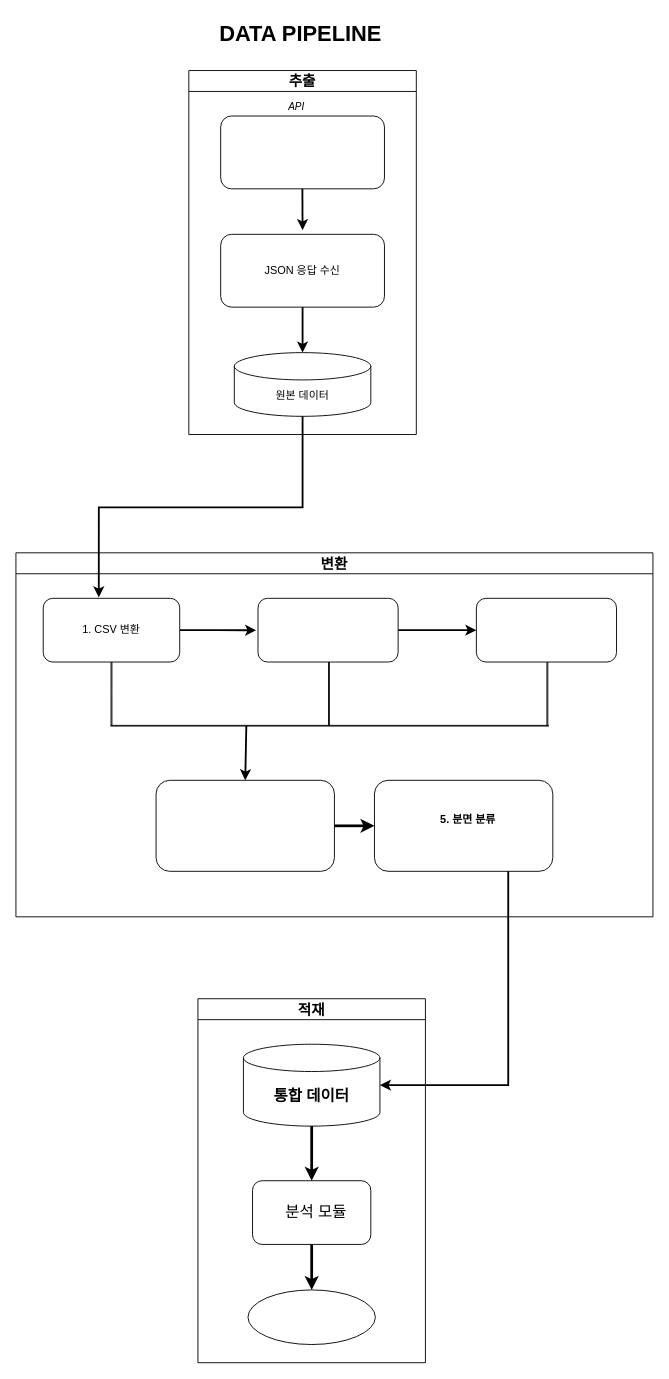
Some shapes in this 669 by 1379 pixel diagram are drawn without their labels. Each missing label, with the centre of its shape:
"2. 데이터 정제" belongs at (x=327, y=629).
"3. 데이터 통합" belongs at (x=546, y=629).
"4. 파생 변수 생성" belongs at (x=244, y=825).
"API 호출" belongs at (x=302, y=152).
"대시보드 Streamlit App" belongs at (x=311, y=1317).
